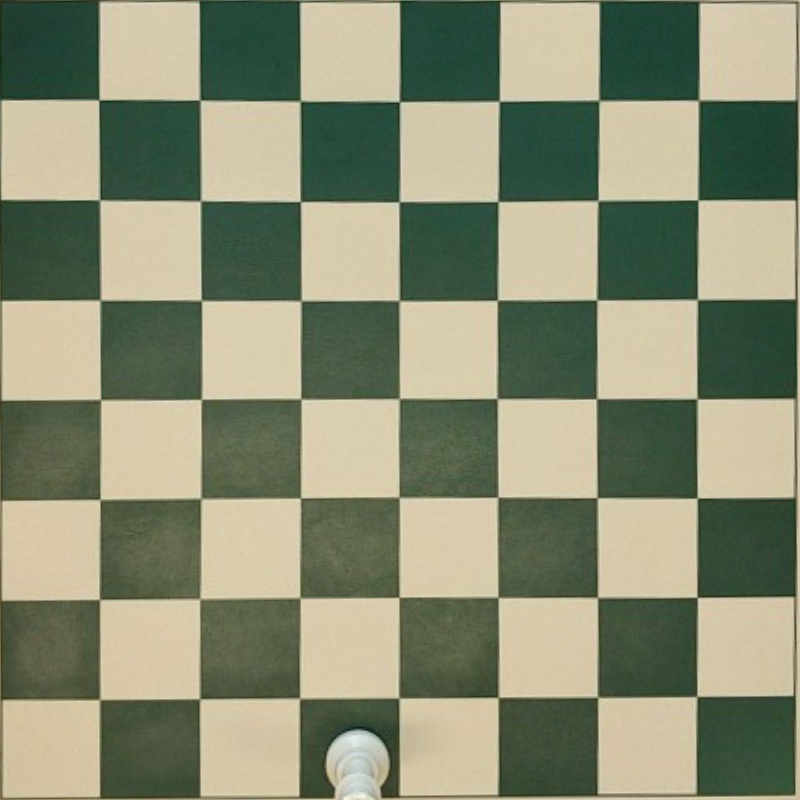white-queen: (324, 728, 390, 799)
